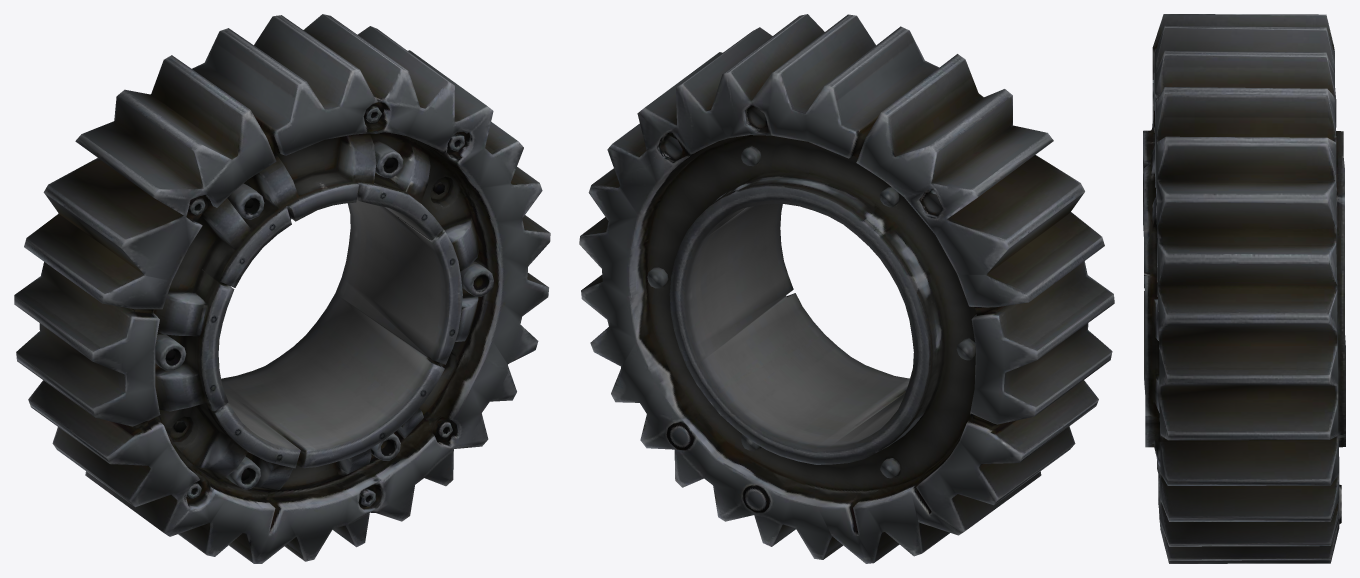
3 renders of one model, left to right at view 1: azimuth 30°, elevation 25°; view 2: azimuth 150°, elevation 25°; view 3: azimuth 270°, elevation 25°, orthographic. The views are drawn at different scales.
Parts seen in each view (by area): view 1: tripo_node_a8bc0fba-5bf1-4d57-913d-2b2d55f1f47d; view 2: tripo_node_a8bc0fba-5bf1-4d57-913d-2b2d55f1f47d; view 3: tripo_node_a8bc0fba-5bf1-4d57-913d-2b2d55f1f47d.
Part boxes in pixels (x1,y1,x2,y2): tripo_node_a8bc0fba-5bf1-4d57-913d-2b2d55f1f47d: [14, 14, 550, 563]; tripo_node_a8bc0fba-5bf1-4d57-913d-2b2d55f1f47d: [579, 14, 1114, 563]; tripo_node_a8bc0fba-5bf1-4d57-913d-2b2d55f1f47d: [1143, 14, 1345, 563].
Bounding box in the file's own units: 0.998 × 0.998 × 0.3652.
1 material, 1 textured.
